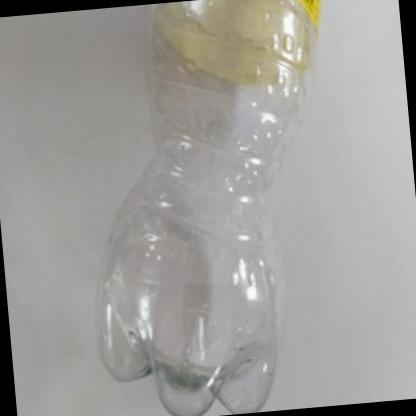plastic_bottles: (61, 0, 362, 416)
